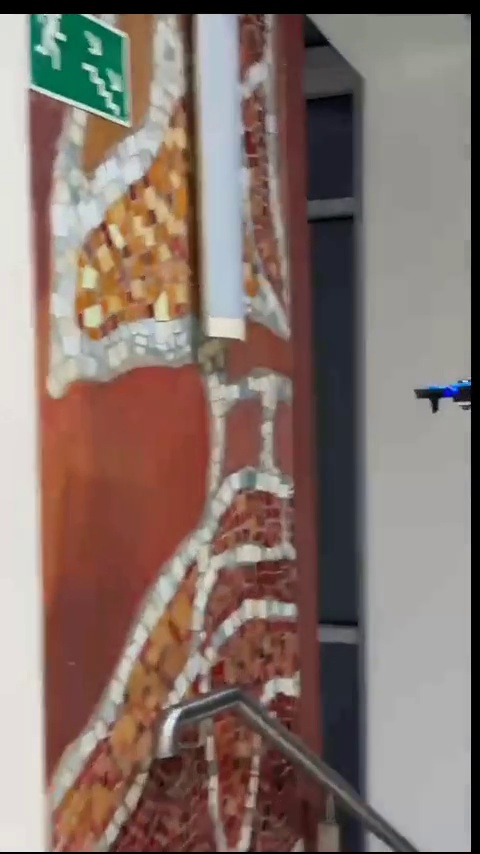drone: (412, 372, 480, 423)
